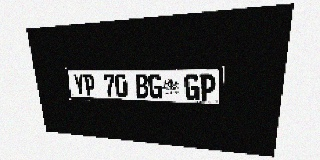0: (114, 74, 128, 98)
7: (103, 74, 116, 97)
B: (135, 74, 149, 98)
G: (185, 74, 200, 100), (148, 74, 162, 99)
P: (200, 74, 216, 101), (83, 74, 96, 96)
Y: (73, 74, 86, 96)
